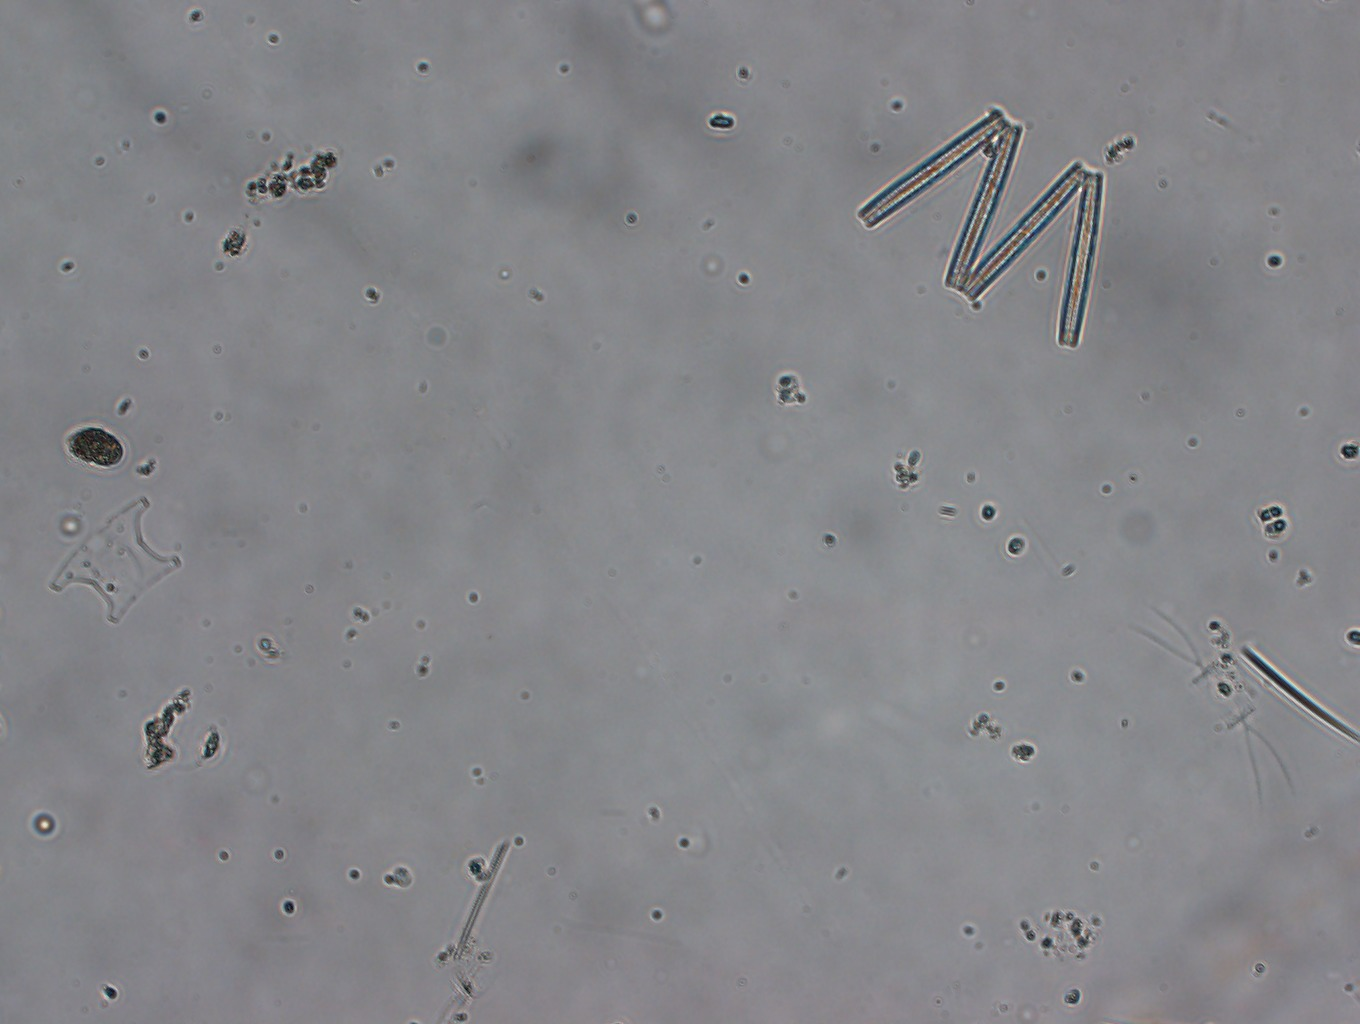chaetoceros: (1132, 601, 1295, 811)
eucampia: (47, 496, 182, 628)
thalassionema nitzschioides: (855, 105, 1103, 349)
